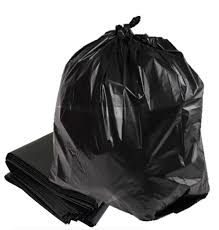Trash: (51, 12, 216, 219)
